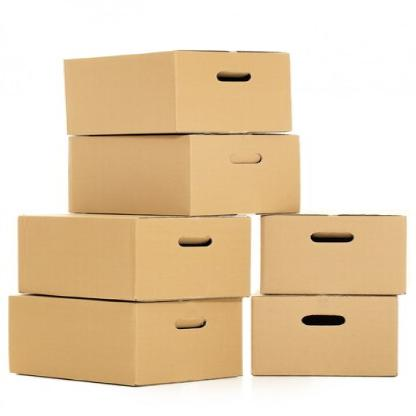box: (251, 296, 400, 378), (262, 216, 405, 294), (134, 296, 242, 388), (175, 50, 293, 134), (136, 216, 250, 301), (187, 134, 301, 217)
